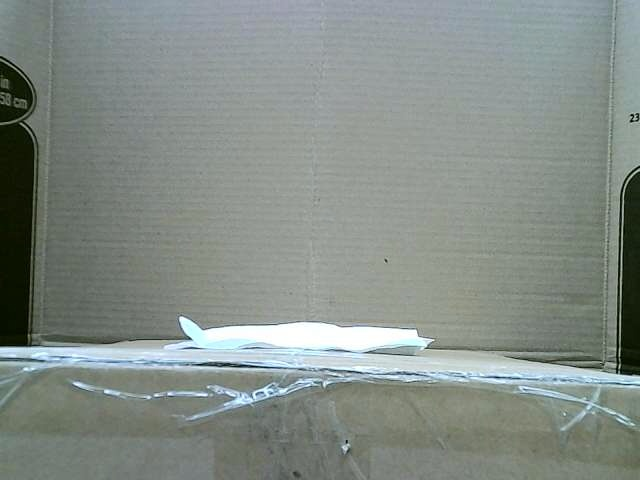Tissue: (164, 315, 434, 352)
